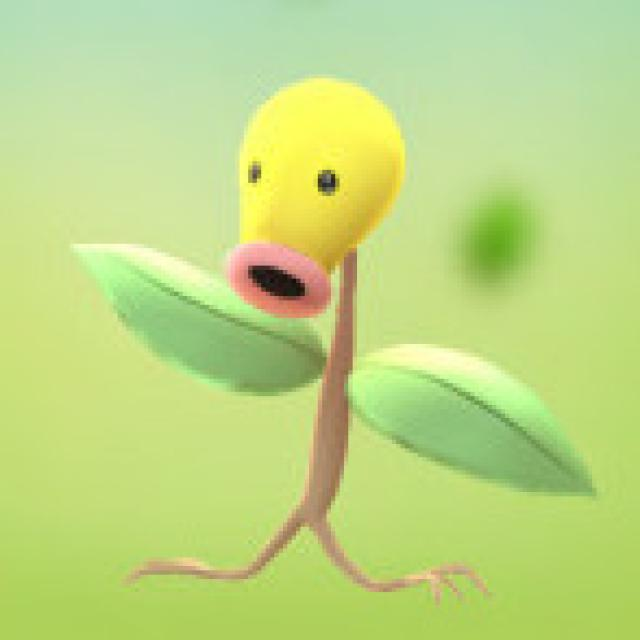Bellsprout: (194, 74, 426, 590)
